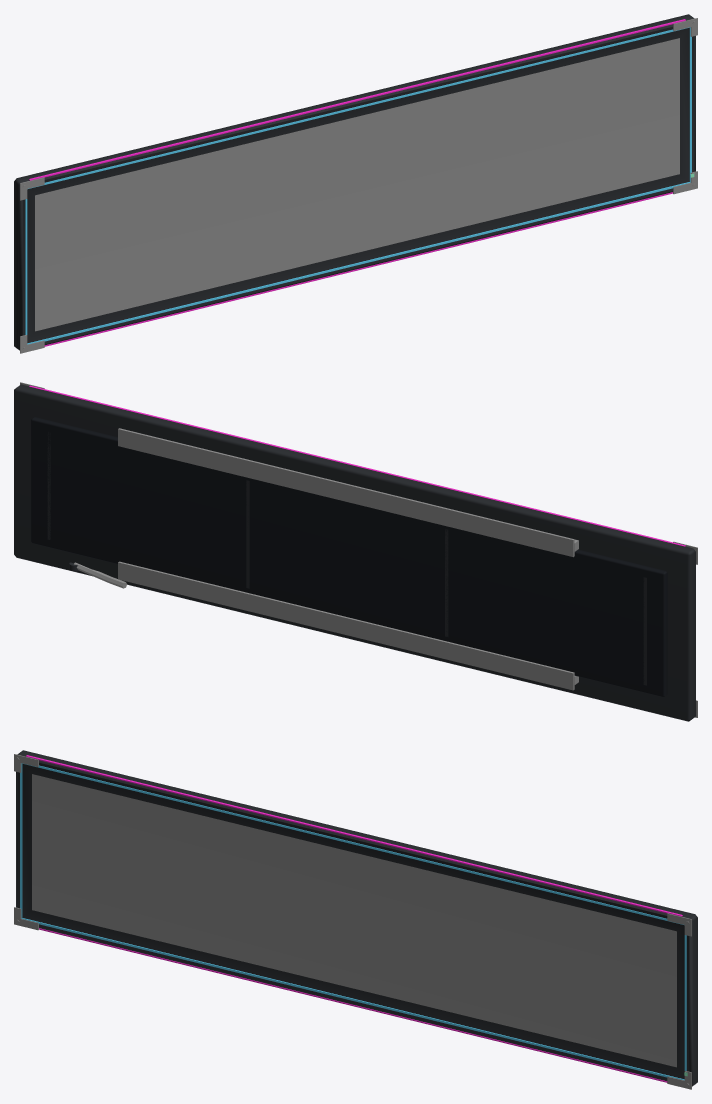
Rendered from Sign_Panel_S.fbx.
3 renders of one model, top to bottom at view 1: azimuth 30°, elevation 25°; view 2: azimuth 150°, elevation 25°; view 3: azimuth 330°, elevation 25°, orthographic.
Parts seen in each view (by area): view 1: Sign_Panel_S_LOD0; view 2: Sign_Panel_S_LOD0; view 3: Sign_Panel_S_LOD0.
Part boxes in pixels (x1,y1,x2,y2): Sign_Panel_S_LOD0: (14,14,697,353); Sign_Panel_S_LOD0: (14,382,697,721); Sign_Panel_S_LOD0: (14,750,697,1089).
Size of what is drawn, in the model's own units: 2.5 by 0.601 by 0.0898.
